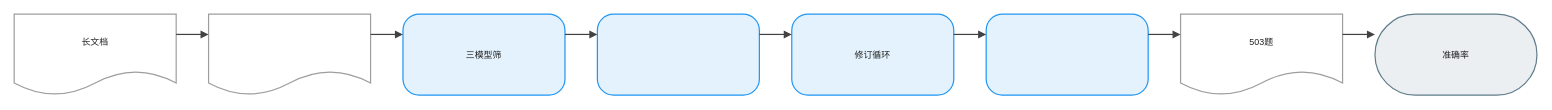
Some shapes in this 1552 by 110 pixel diagram are drawn without their labels. Here are the shapes that lost their labels. From the top down, the centre of each, then its label:
(x=289, y=54): 选择题稿
(x=678, y=54): 专家审核
(x=1066, y=54): 六类任务
